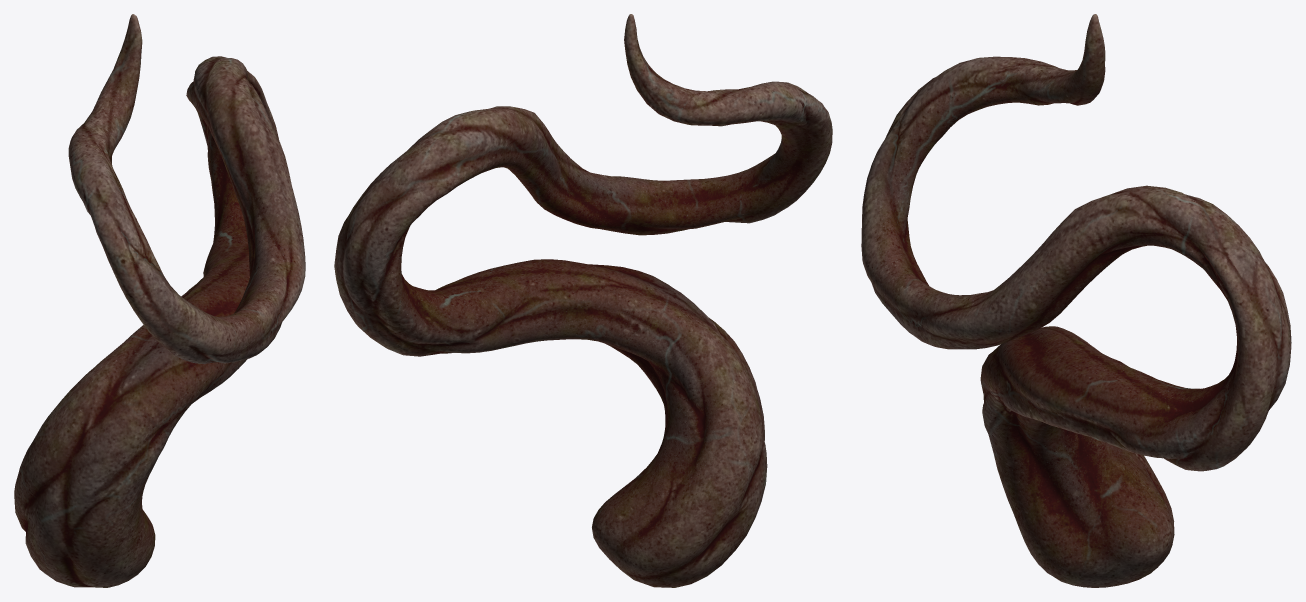
Rendered from tentacles.glb.
The picture shows the model from 3 angles, left to right: view 1: azimuth 30°, elevation 25°; view 2: azimuth 150°, elevation 25°; view 3: azimuth 270°, elevation 25°; orthographic projection. The views are drawn at different scales.
Parts seen in each view (by area): view 1: lo; view 2: lo; view 3: lo.
Part boxes in pixels (box(x1,y1,x2,y2)): lo: box(14, 14, 305, 587); lo: box(334, 14, 832, 587); lo: box(861, 14, 1291, 587).
Size of the model in its own units: 2.73 by 4.32 by 2.86.
1 material, 1 textured.
